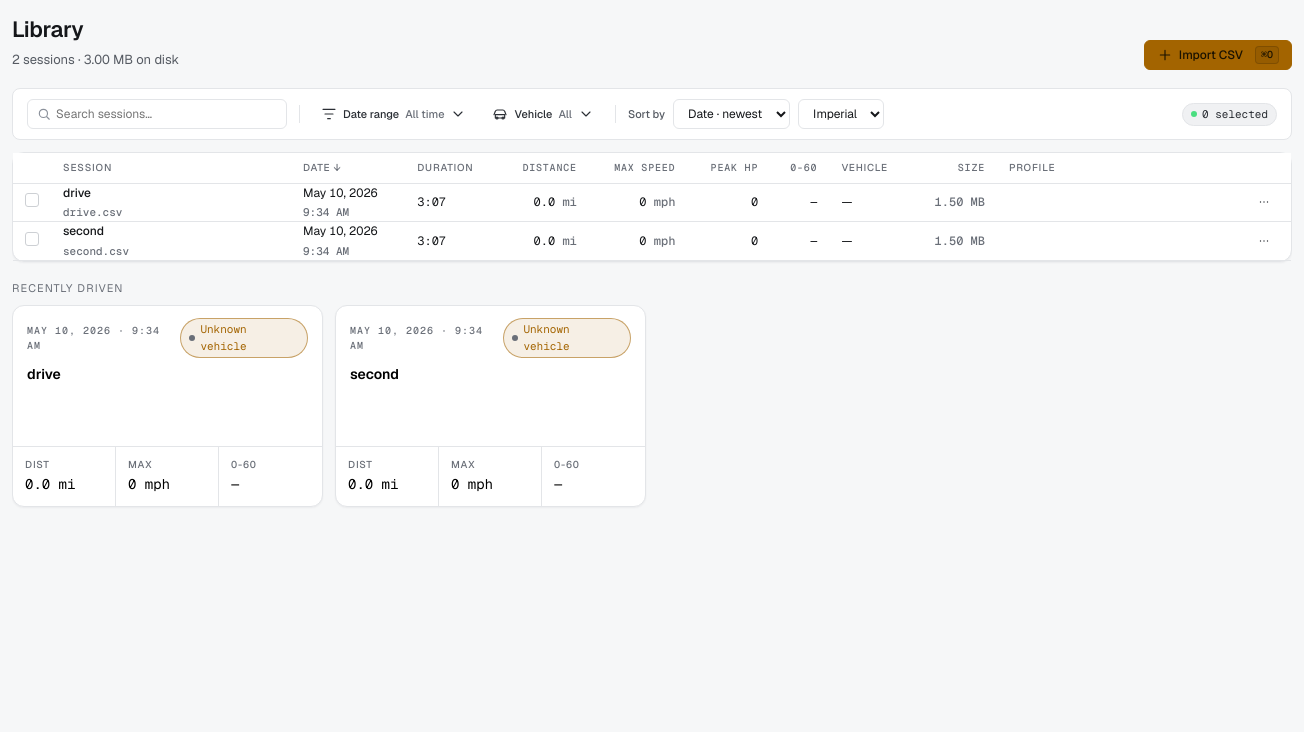
pages/library › selecting two sessions reveals the Compare button
The image size is (1304, 732).
Click the checkbox with test id "library-sessions-table-checkbox-s_1_drive". click: click(32, 200)
box: [25,193,39,207]
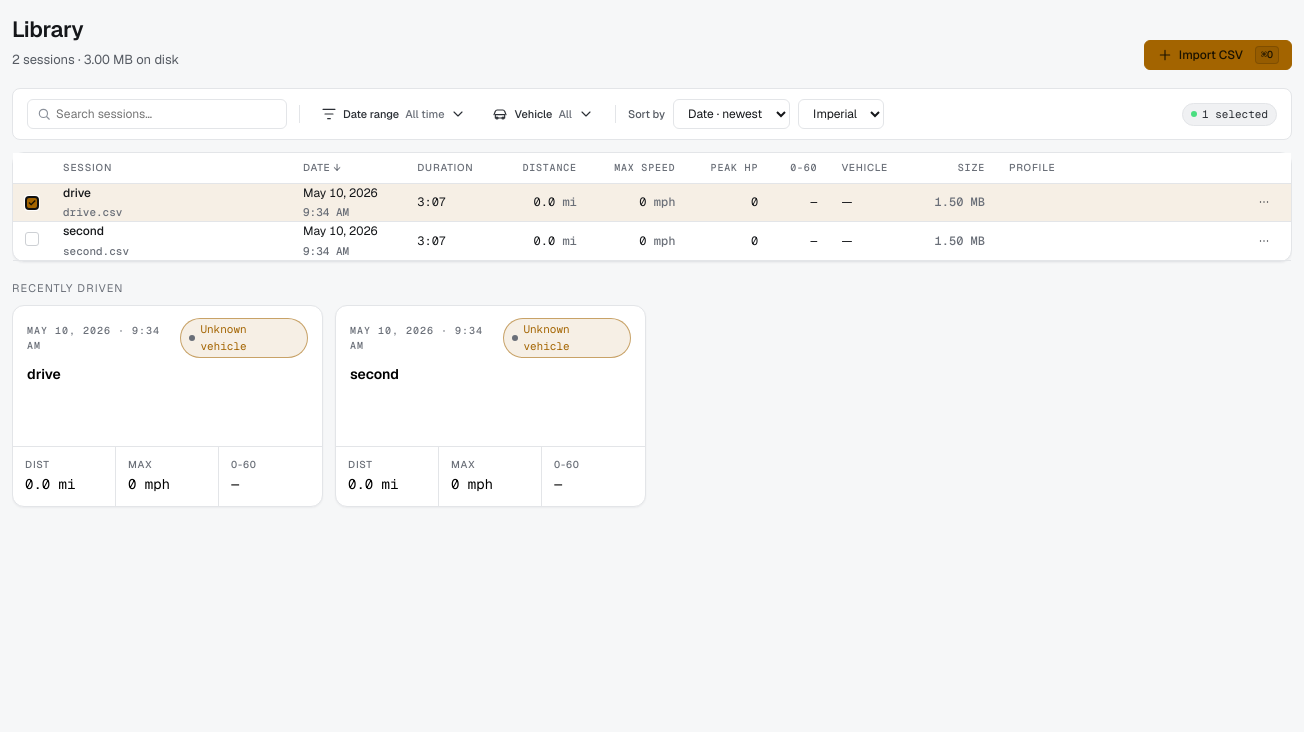
Click the checkbox with test id "library-sessions-table-checkbox-s_2_drive". click: click(32, 239)
box: [25,232,39,246]
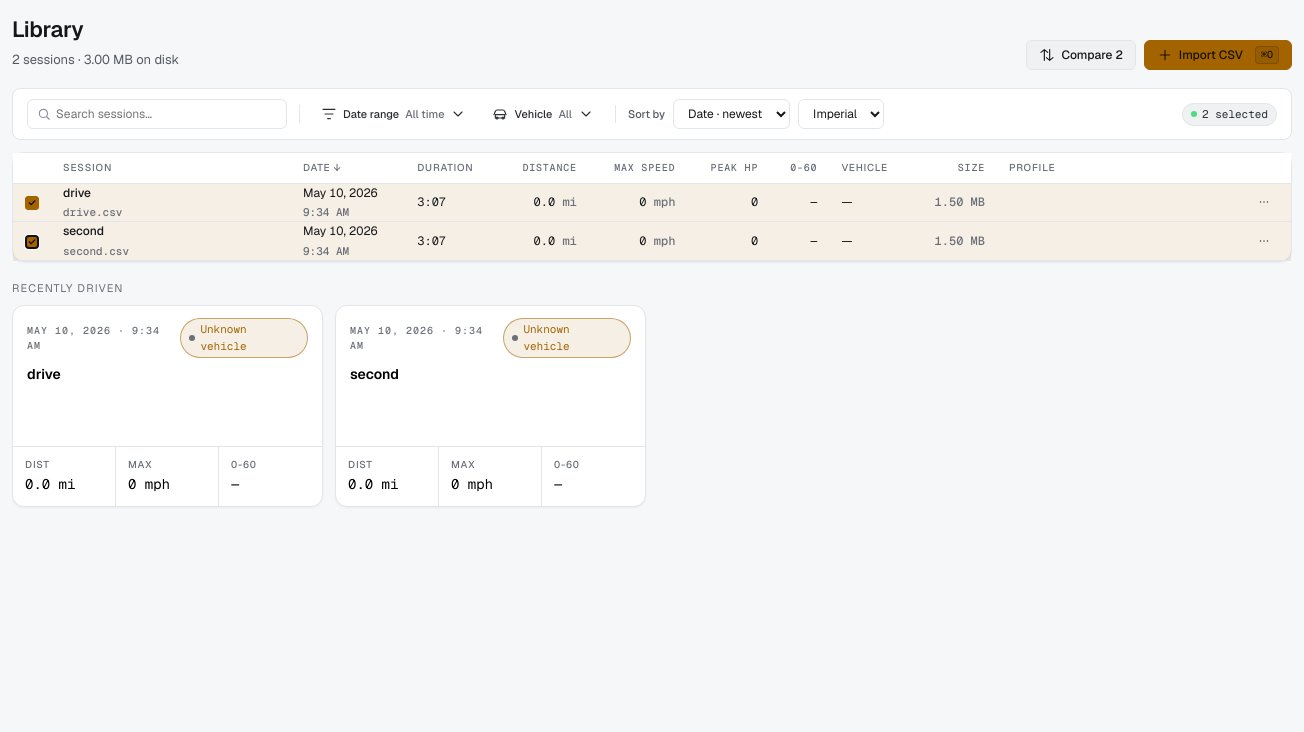
Check: the button with test id "library-compare-button" is shown, box [1026,40,1136,70]
